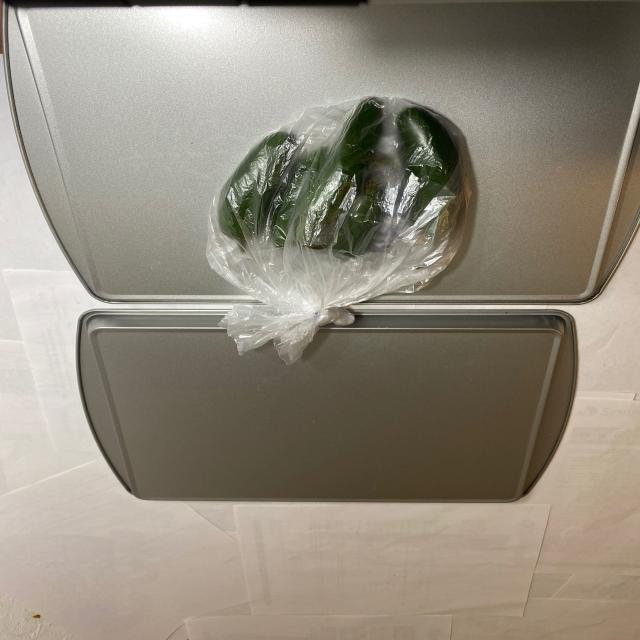chilli: (204, 99, 478, 311)
